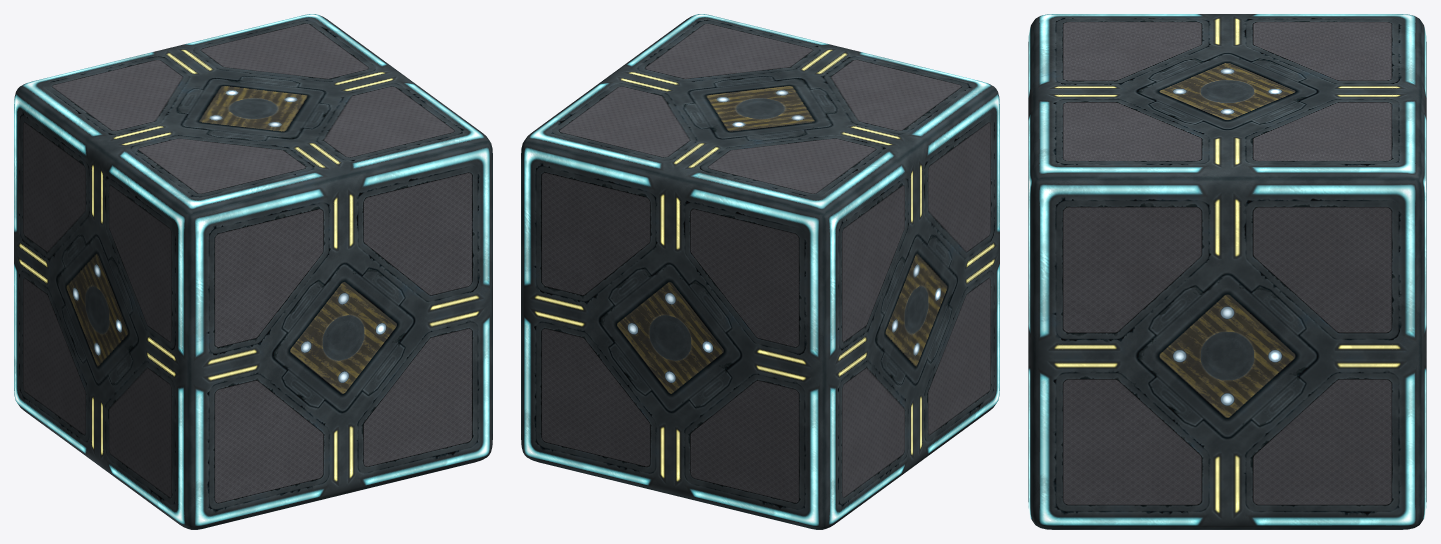
The model's file is sci-fi_floor_plate.glb.
3 renders of one model, left to right at view 1: azimuth 30°, elevation 25°; view 2: azimuth 150°, elevation 25°; view 3: azimuth 270°, elevation 25°, orthographic. The views are drawn at different scales.
Visible parts, largest first — view 1: Cube; view 2: Cube; view 3: Cube.
Part boxes in pixels (box(x1,y1,x2,y2)): Cube: box(14, 14, 492, 529); Cube: box(521, 14, 999, 529); Cube: box(1028, 14, 1426, 529).
Size of the model in its own units: 200 by 200 by 200.
1 material, 1 textured.
